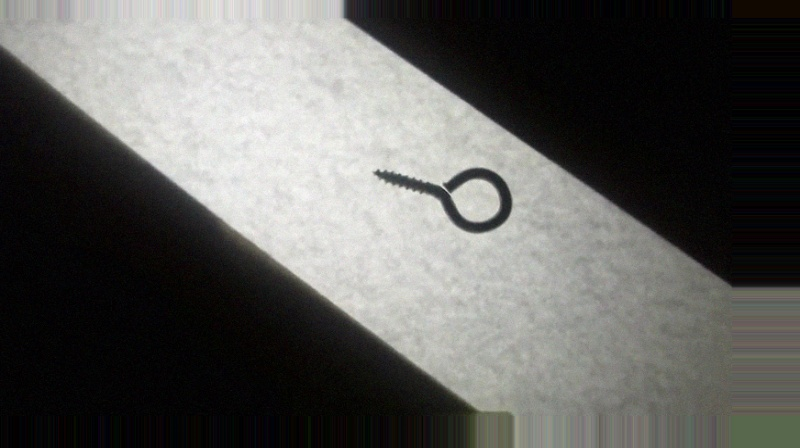O001: (370, 165, 516, 236)
